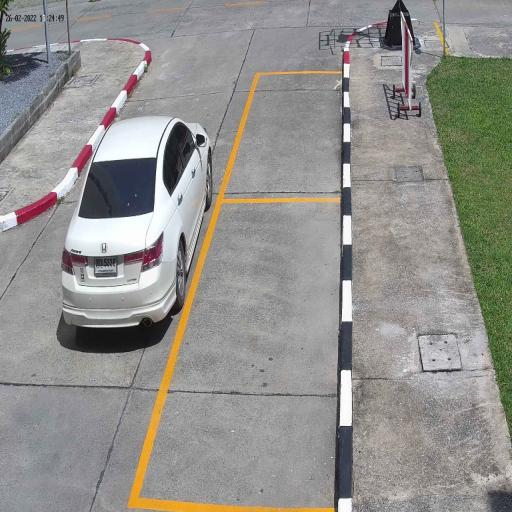car: (60, 115, 214, 334)
